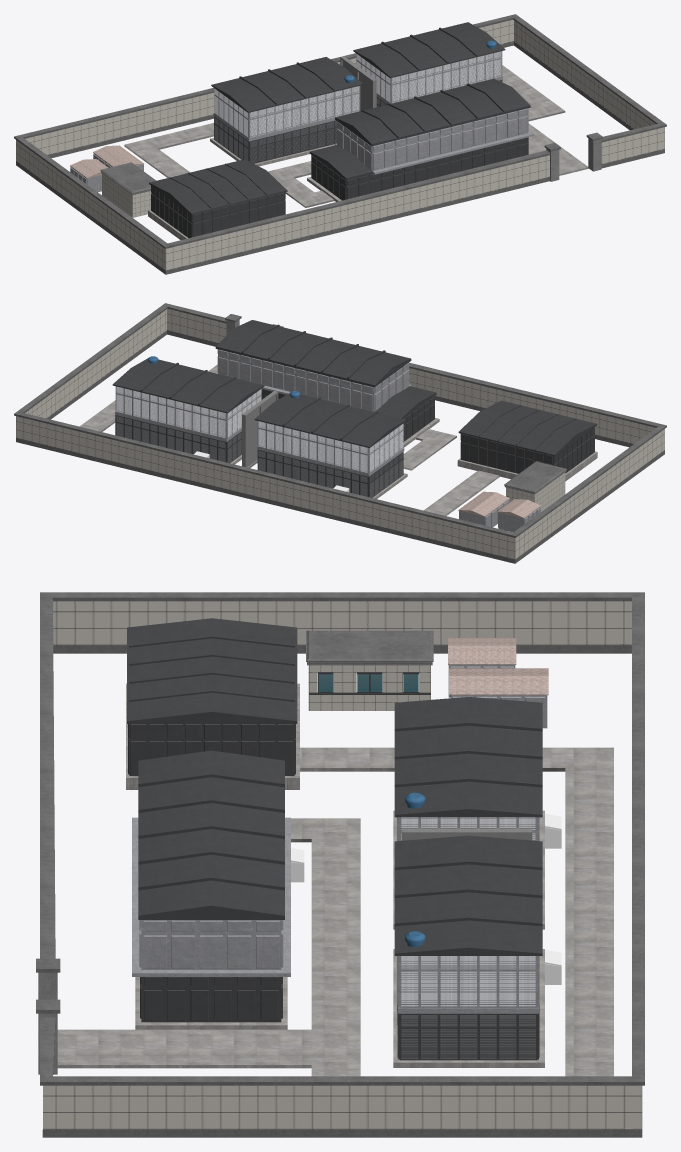
The model's file is 110KV变电站.glb.
3 views of the same model, one above another, from view 1: azimuth 30°, elevation 25°; view 2: azimuth 150°, elevation 25°; view 3: azimuth 270°, elevation 25° (orthographic). The views are drawn at different scales.
Visible parts, largest first — view 1: 110KV变电站00, 110KV变电站08, 110KV变电站01, 110KV变电站11, 110KV变电站02, 110KV变电站05, 110KV变电站07, 110KV变电站10, 110KV变电站04; view 2: 110KV变电站00, 110KV变电站08, 110KV变电站01, 110KV变电站11, 110KV变电站02, 110KV变电站05, 110KV变电站10, 110KV变电站07; view 3: 110KV变电站00, 110KV变电站08, 110KV变电站02, 110KV变电站11, 110KV变电站01, 110KV变电站05, 110KV变电站07, 110KV变电站06, 110KV变电站10, 110KV变电站09, 110KV变电站04.
Part boxes in pixels (box(x1,y1,x2,y2)): 110KV变电站00: box(149, 22, 530, 237); 110KV变电站08: box(16, 19, 664, 270); 110KV变电站01: box(70, 51, 534, 192); 110KV变电站11: box(14, 14, 666, 274); 110KV变电站02: box(124, 65, 588, 239); 110KV变电站05: box(70, 145, 143, 178); 110KV变电站07: box(100, 162, 156, 195); 110KV变电站10: box(340, 56, 376, 111); 110KV变电站04: box(546, 138, 601, 181); 110KV变电站00: box(112, 320, 597, 497); 110KV变电站08: box(16, 308, 664, 559); 110KV变电站01: box(115, 349, 540, 532); 110KV变电站11: box(14, 303, 666, 563); 110KV变电站02: box(79, 364, 597, 515); 110KV变电站05: box(458, 491, 540, 518); 110KV变电站10: box(242, 390, 278, 467); 110KV变电站07: box(504, 461, 566, 494); 110KV变电站00: box(127, 618, 542, 1060); 110KV变电站08: box(43, 601, 642, 1129); 110KV变电站02: box(57, 683, 613, 1076); 110KV变电站11: box(36, 592, 644, 1137); 110KV变电站01: box(132, 665, 547, 1013); 110KV变电站05: box(448, 638, 548, 695); 110KV变电站07: box(306, 630, 433, 665); 110KV变电站06: box(291, 813, 561, 984); 110KV变电站10: box(402, 828, 532, 840); 110KV变电站09: box(318, 674, 418, 691); 110KV变电站04: box(38, 972, 57, 1074).
Bounding box in the file's own units: 67.19 × 8.22 × 35.32.
12 materials, 11 textured.
